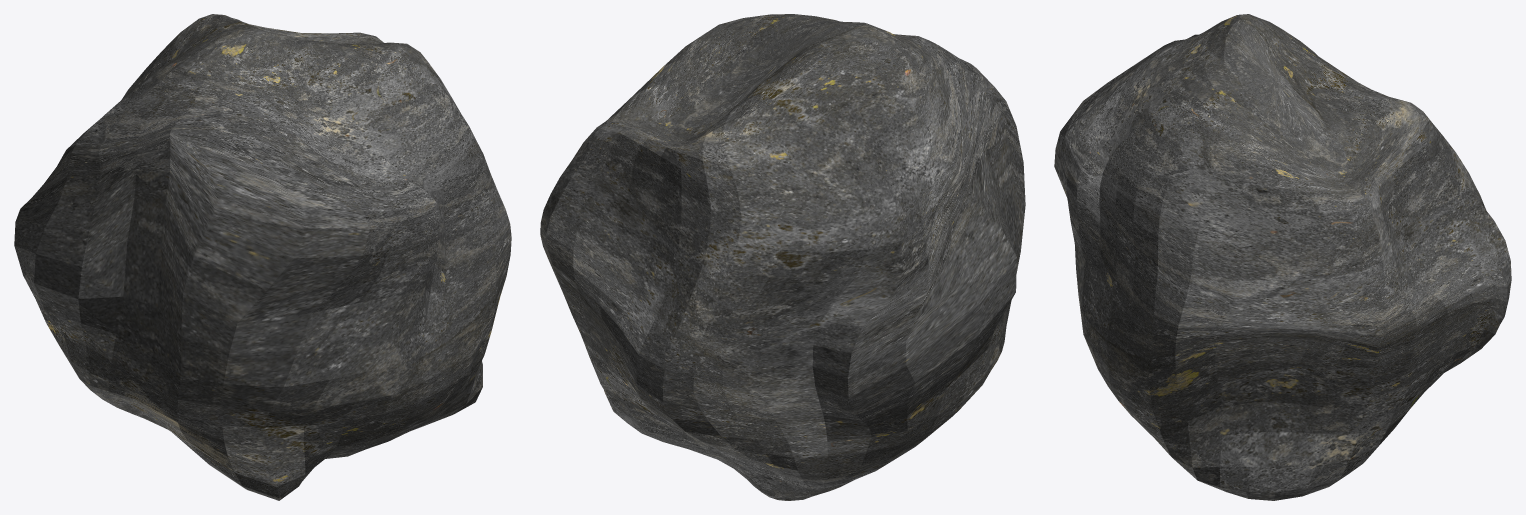
File: MediumAsteroid3.fbx
3 renders of one model, left to right at view 1: azimuth 30°, elevation 25°; view 2: azimuth 150°, elevation 25°; view 3: azimuth 270°, elevation 25°, orthographic. The views are drawn at different scales.
Parts seen in each view (by area): view 1: Sphere.001; view 2: Sphere.001; view 3: Sphere.001.
Part boxes in pixels (<box>): Sphere.001: <box>14,14,511,500</box>; Sphere.001: <box>540,14,1025,500</box>; Sphere.001: <box>1054,14,1511,500</box>.
Size of the model in its own units: 53.99 by 56.27 by 55.75.
Materials: 1 (1 with a texture image).
